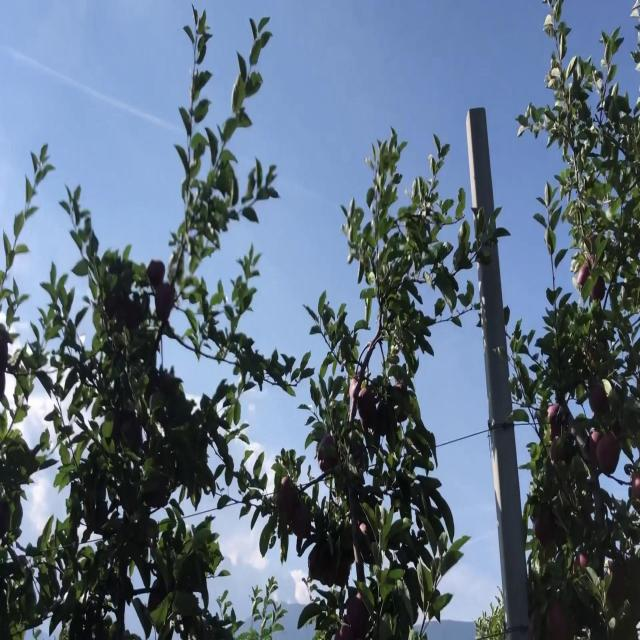apple: (352, 383, 378, 432), (276, 476, 299, 524), (600, 433, 621, 478), (356, 391, 378, 432), (156, 284, 177, 324), (320, 433, 339, 475), (348, 590, 366, 631), (292, 504, 311, 542), (536, 511, 556, 546), (548, 604, 568, 638), (148, 263, 168, 290), (608, 568, 623, 603), (592, 383, 608, 414), (308, 547, 321, 583), (592, 277, 605, 302), (548, 405, 560, 432), (592, 433, 601, 466), (632, 476, 640, 512), (548, 405, 560, 425), (576, 554, 588, 572), (580, 270, 591, 286)
